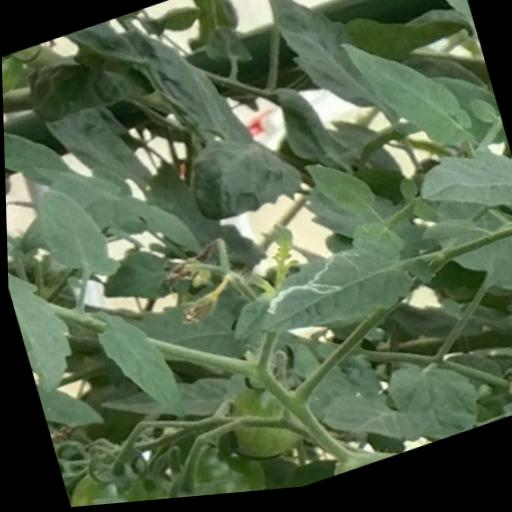Healthy: (335, 9, 480, 186), (89, 298, 193, 444), (25, 170, 123, 298), (411, 141, 512, 245), (301, 151, 378, 234)
Leaf_Miner: (237, 232, 418, 365)
